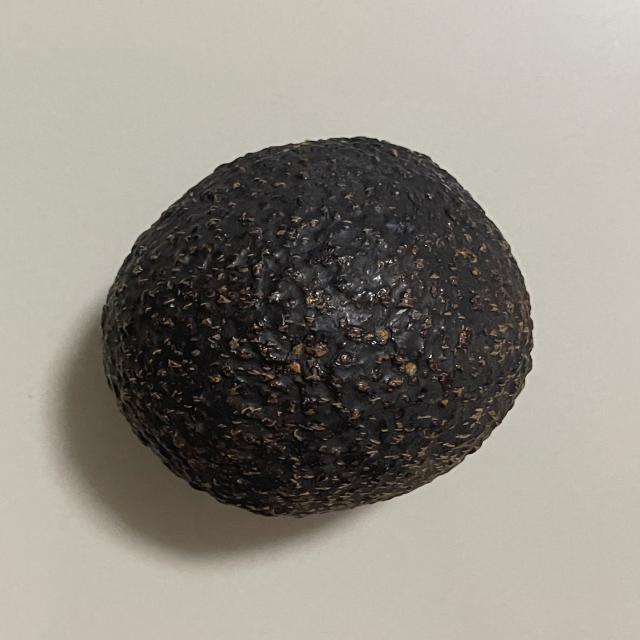Level3: (91, 127, 541, 526)
